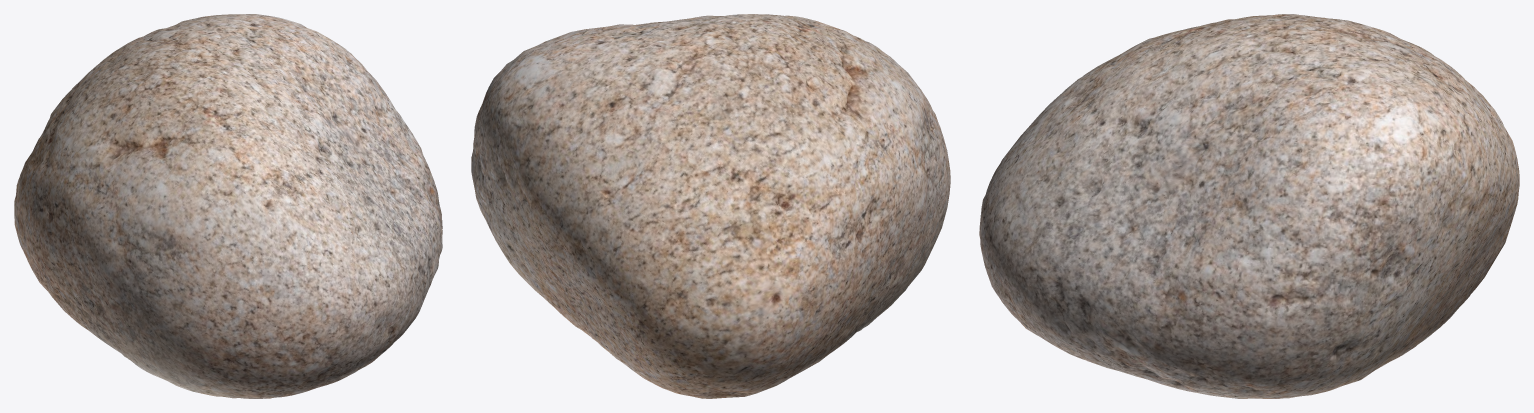
3 renders of one model, left to right at view 1: azimuth 30°, elevation 25°; view 2: azimuth 150°, elevation 25°; view 3: azimuth 270°, elevation 25°, orthographic. The views are drawn at different scales.
Parts seen in each view (by area): view 1: rock-008; view 2: rock-008; view 3: rock-008.
Boxes of the visible parts, x1,y1,x2,y2 form: rock-008: (14, 14, 442, 398); rock-008: (471, 14, 950, 398); rock-008: (979, 14, 1519, 398).
Size of the model in its own units: 1.73 by 1.35 by 2.
Materials: 1 (1 with a texture image).
